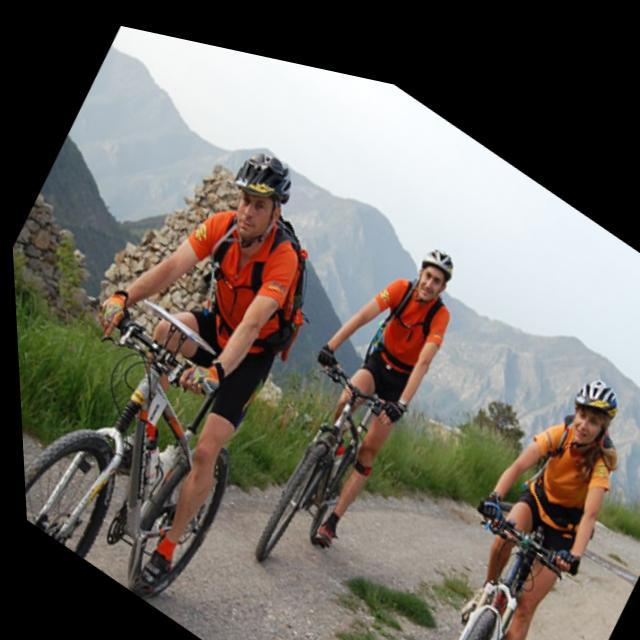Helmet: (224, 143, 296, 256), (562, 369, 620, 461), (401, 240, 459, 310)
